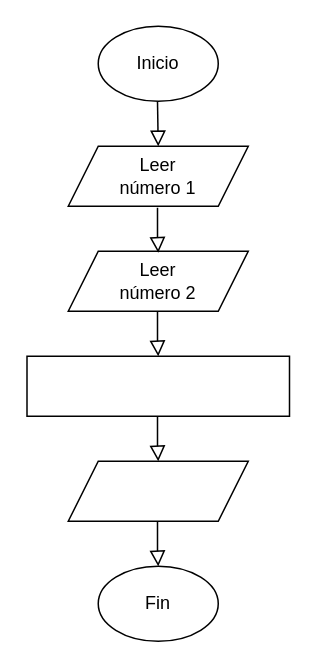
The diagram is 315 pixels wide and 668 high, and some of its shapes have lost their labels. The shapes that lost their labels are listed below. From the top down, each one's centre as x and y in pixels, then its label:
[158,385]: número 1 / número 2
[157,490]: Mostrar división
